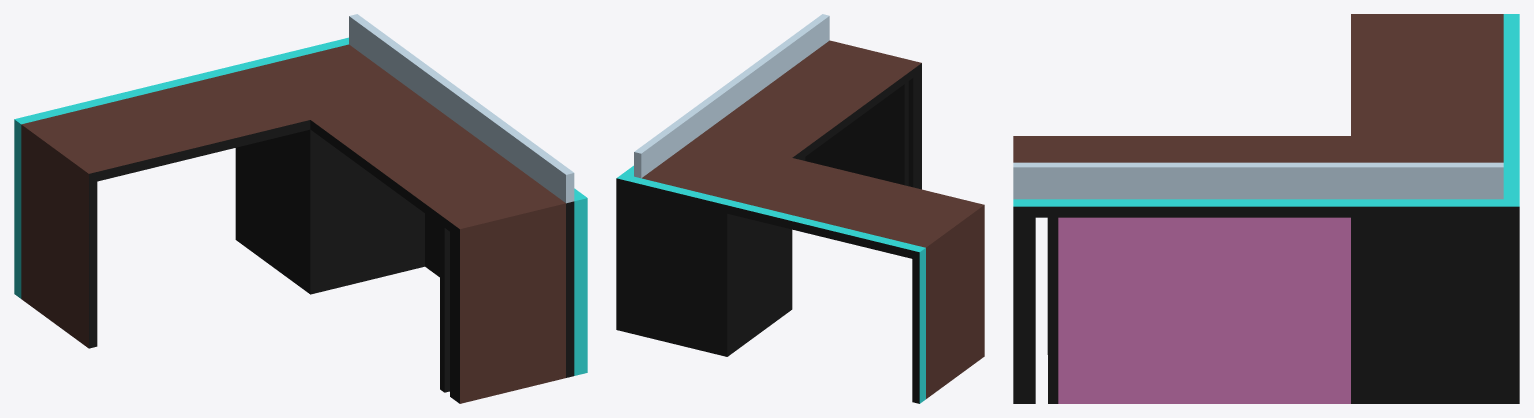
File: reception desk.fbx
The picture shows the model from 3 angles, left to right: view 1: azimuth 30°, elevation 25°; view 2: azimuth 150°, elevation 25°; view 3: azimuth 270°, elevation 25°; orthographic projection. The views are drawn at different scales.
Visible parts, largest first — view 1: Cube.002; view 2: Cube.002; view 3: Cube.002.
Boxes of the visible parts, box(x1,y1,x2,y2) form: Cube.002: box(14, 14, 587, 403); Cube.002: box(616, 14, 984, 403); Cube.002: box(1013, 14, 1519, 403).
Bounding box in the file's own units: 270 × 150 × 300.
